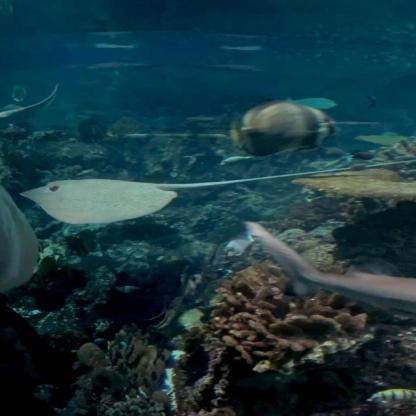fish: (228, 99, 340, 158), (0, 180, 48, 296), (283, 97, 340, 109)
shark: (246, 220, 416, 320)
stingray: (18, 178, 180, 224)
